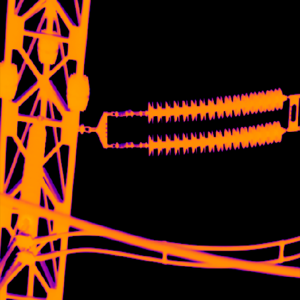insulator: (145, 121, 282, 155), (144, 88, 284, 121)
